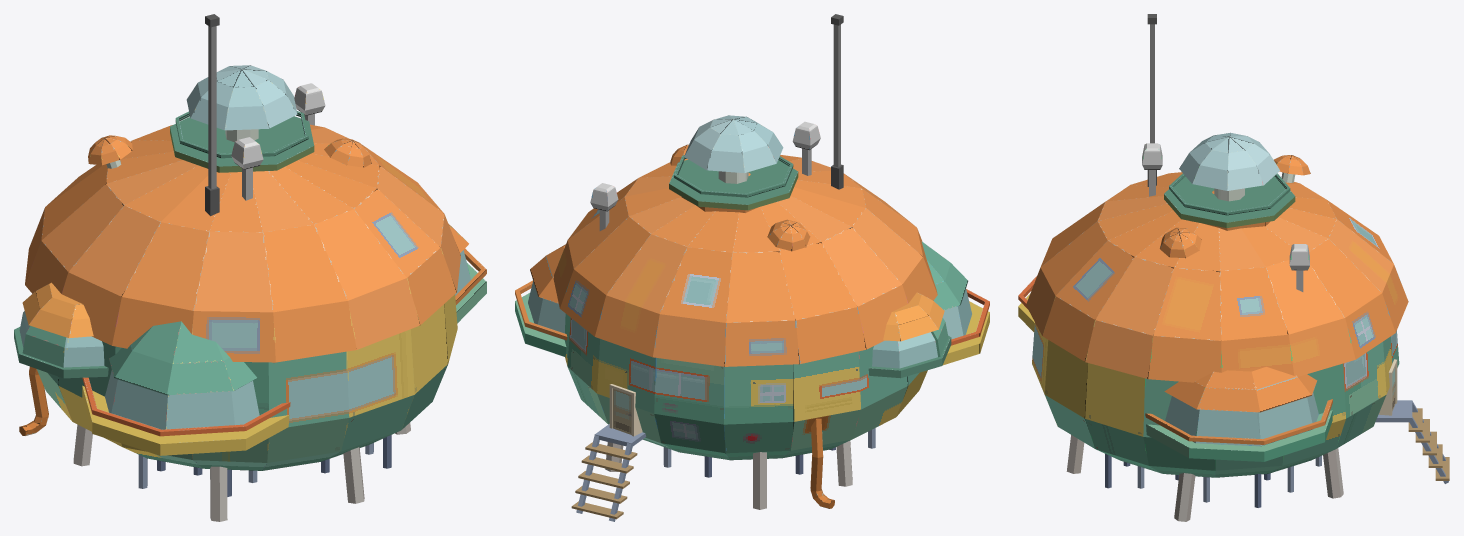
Rendered from F.ber_house_6.gltf.
3 views of the same model, side by side, from view 1: azimuth 30°, elevation 25°; view 2: azimuth 150°, elevation 25°; view 3: azimuth 270°, elevation 25° (orthographic). The views are drawn at different scales.
Visible parts, largest first — view 1: cuboid; view 2: cuboid; view 3: cuboid.
Part boxes in pixels (x1=…): cuboid: x1=14, y1=14, x2=486, y2=521; cuboid: x1=515, y1=14, x2=989, y2=521; cuboid: x1=1018, y1=14, x2=1449, y2=521.
Size of the model in its own units: 12.37 by 12.26 by 11.53.
1 material, 1 textured.
